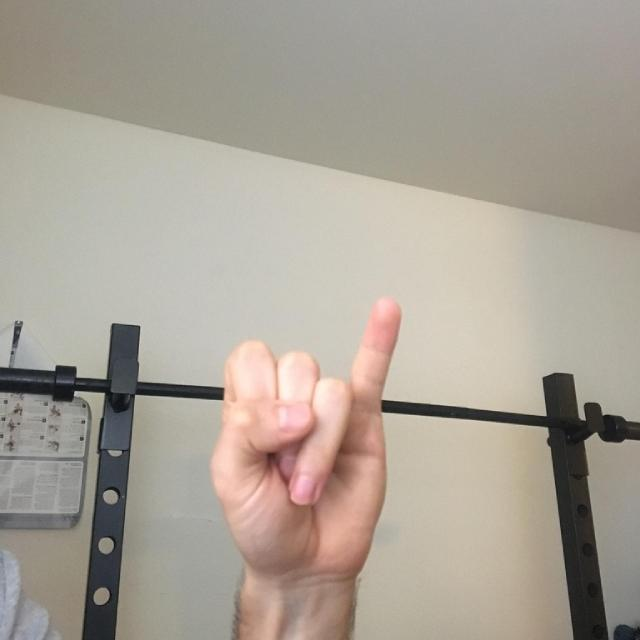I: (209, 271, 486, 588)
